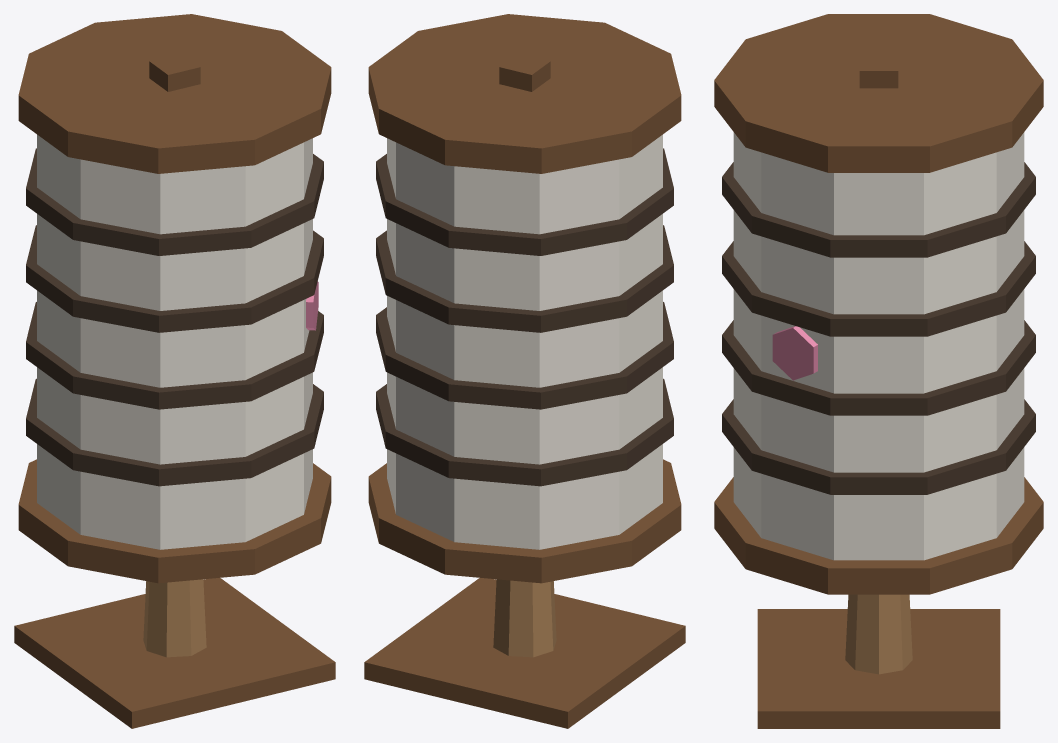
Rendered from sakura_prop_lantern_paper.glb.
3 views of the same model, side by side, from view 1: azimuth 30°, elevation 25°; view 2: azimuth 150°, elevation 25°; view 3: azimuth 270°, elevation 25° (orthographic). The views are drawn at different scales.
Parts seen in each view (by area): view 1: sakura_prop_lantern_paper; view 2: sakura_prop_lantern_paper; view 3: sakura_prop_lantern_paper.
Part boxes in pixels (x1,y1,x2,y2): sakura_prop_lantern_paper: (14, 14, 335, 728); sakura_prop_lantern_paper: (364, 14, 685, 728); sakura_prop_lantern_paper: (714, 14, 1043, 728).
Bounding box in the file's own units: 0.388 × 0.84 × 0.408.
1 material, 1 textured.
